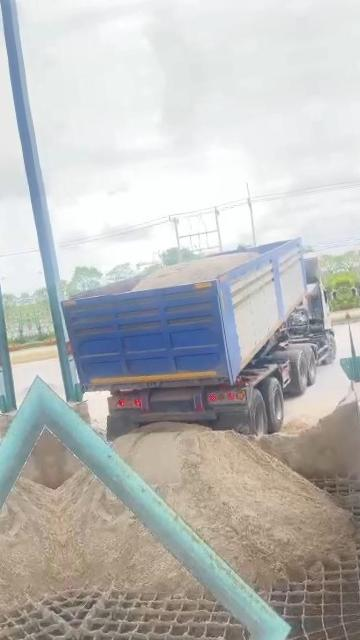sand: (114, 424, 354, 585), (55, 469, 200, 593), (255, 393, 360, 478), (132, 251, 258, 291), (46, 428, 80, 488), (283, 420, 311, 433)
